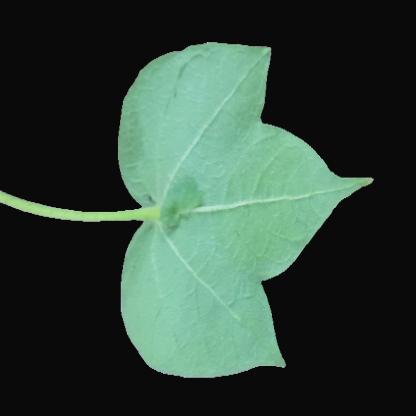curl_stage2: (137, 246, 265, 360), (143, 70, 262, 152), (212, 153, 318, 237)
leaf_enation: (144, 156, 210, 244), (148, 157, 212, 241)
